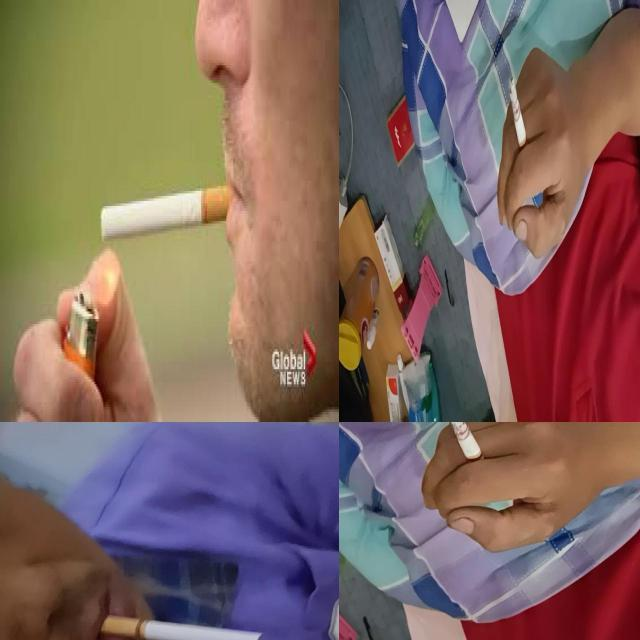cigarette: (100, 184, 240, 244), (100, 616, 264, 640), (448, 422, 491, 480), (509, 77, 528, 169)
